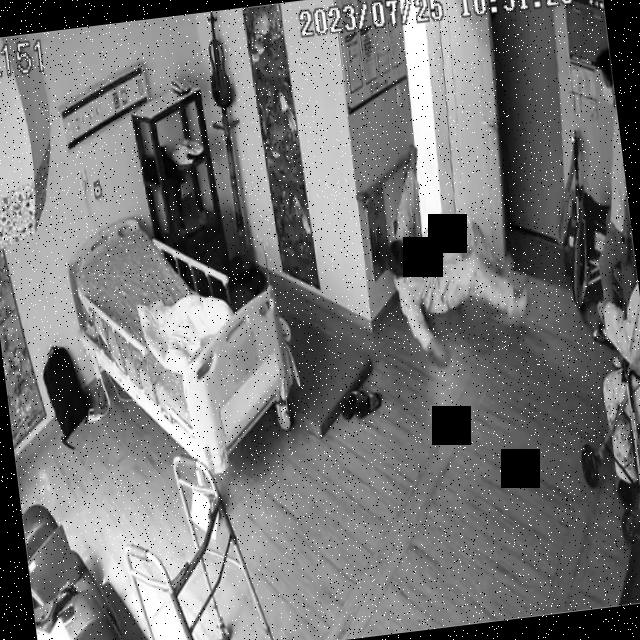bed: (68, 202, 300, 490)
fall: (374, 126, 540, 372)
patient: (372, 128, 537, 368), (594, 289, 640, 475)
sit: (596, 290, 640, 478)
walker: (113, 444, 278, 640), (567, 346, 640, 552)
